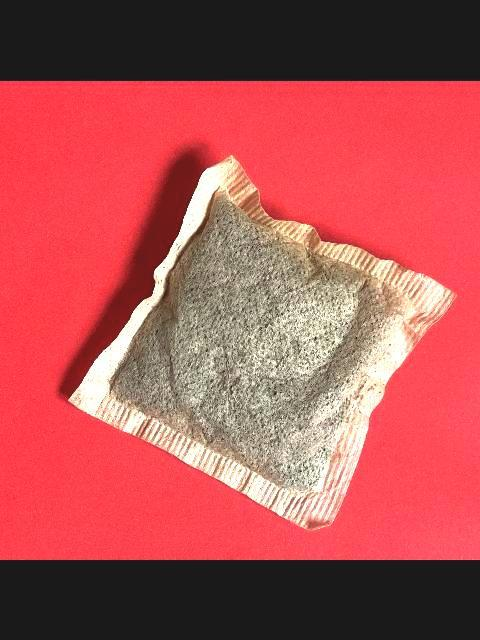teabag: (64, 153, 460, 532)
